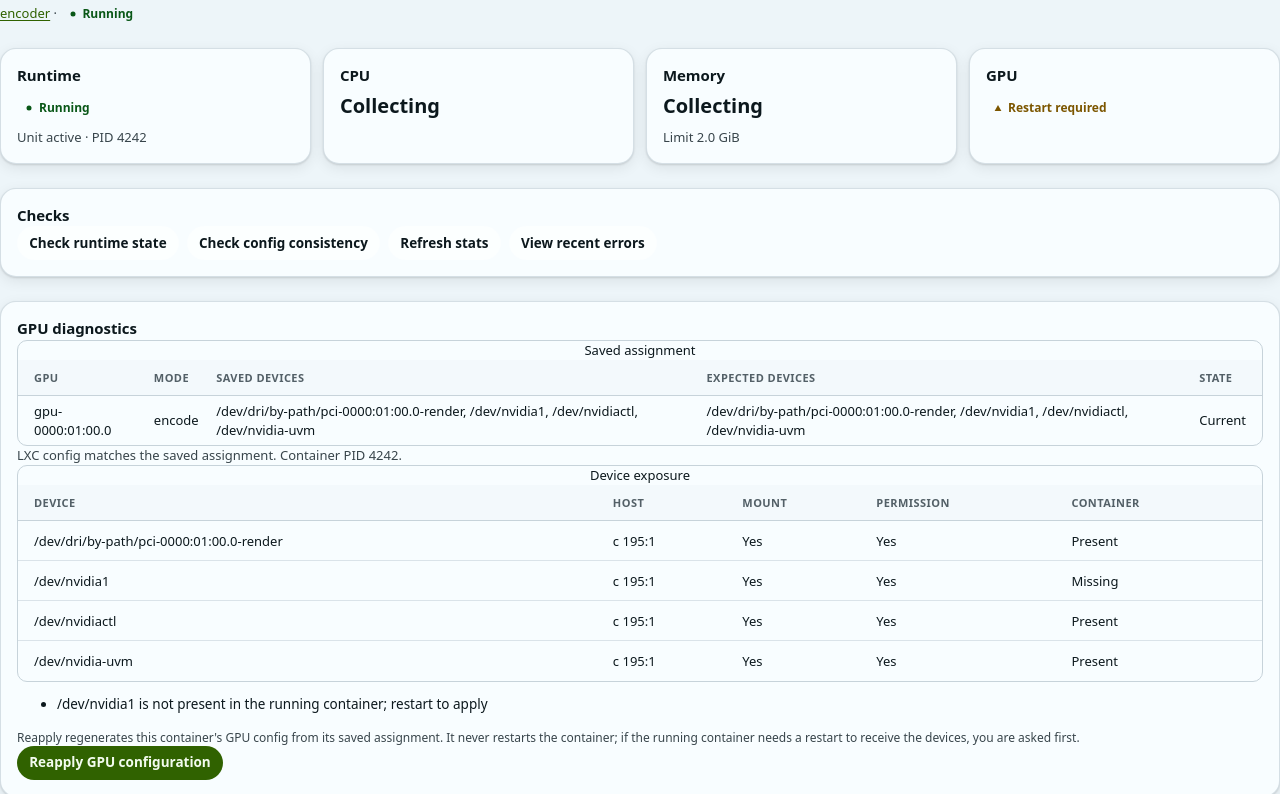
Test case: WorkloadDiagnosticsPage › does not claim success when the restart did not deliver the devices
(page scrolled)
What coordinates should you click on to do the following:
click the button "Reapply GPU configuration"
I would click on:
 (120, 763)
Its box is [17,746,223,780].
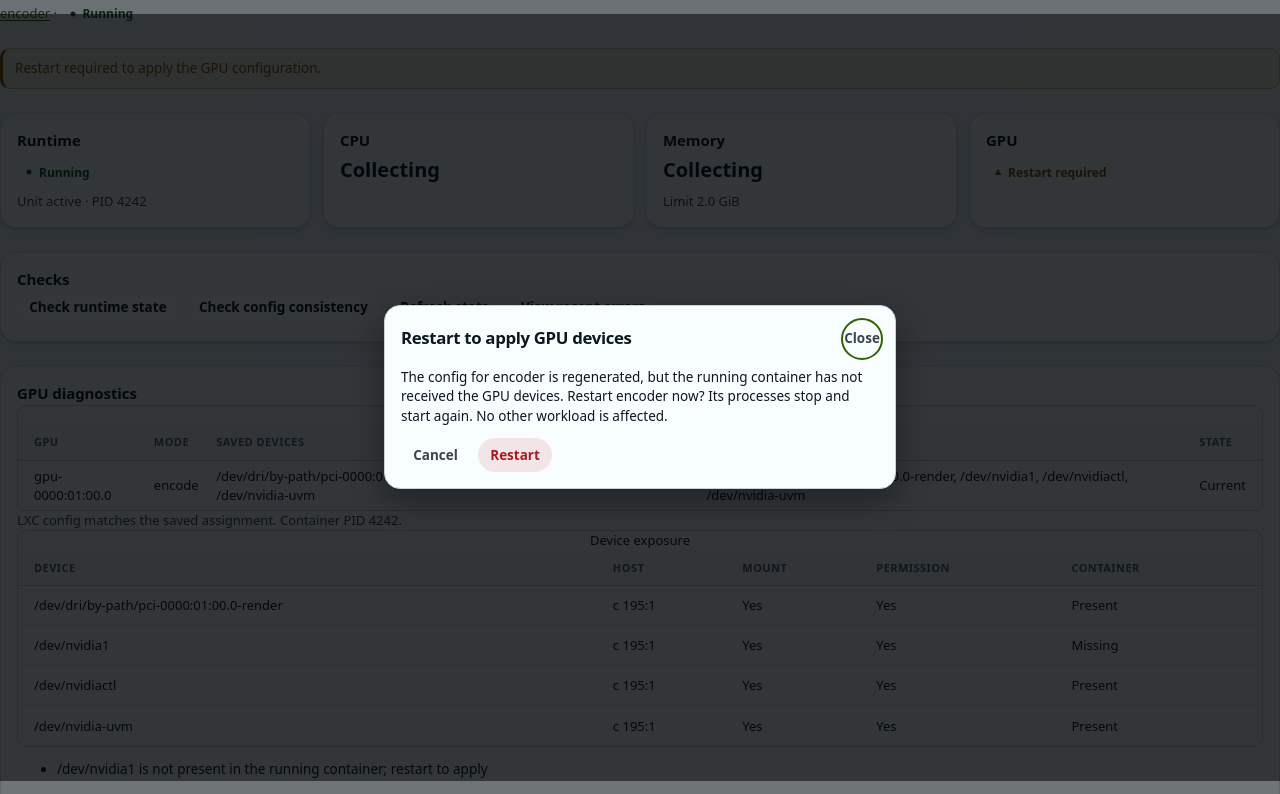
What coordinates should you click on to do the following:
click the button "Restart"
I would click on:
 (515, 455)
Its box is [478,438,552,472].
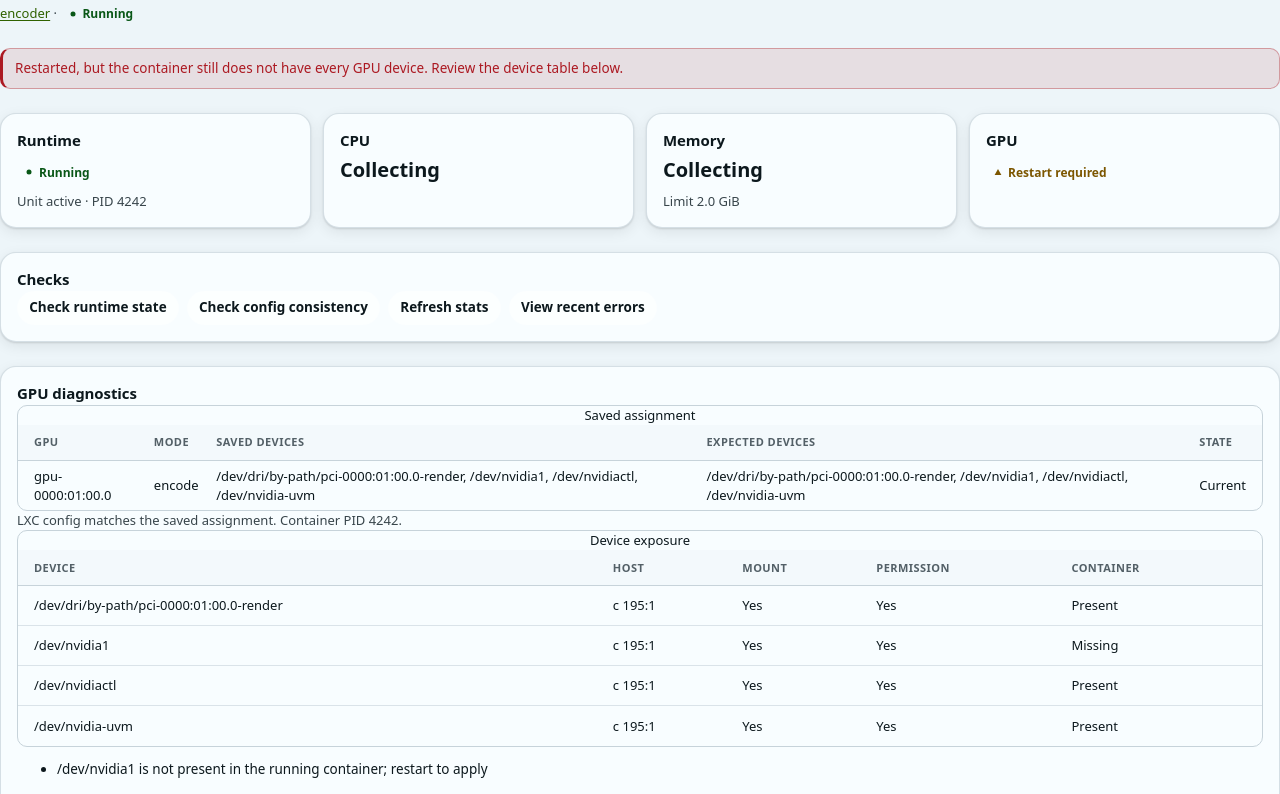
Expected: the message shows "still does not have every GPU device", [15,59,623,77]
